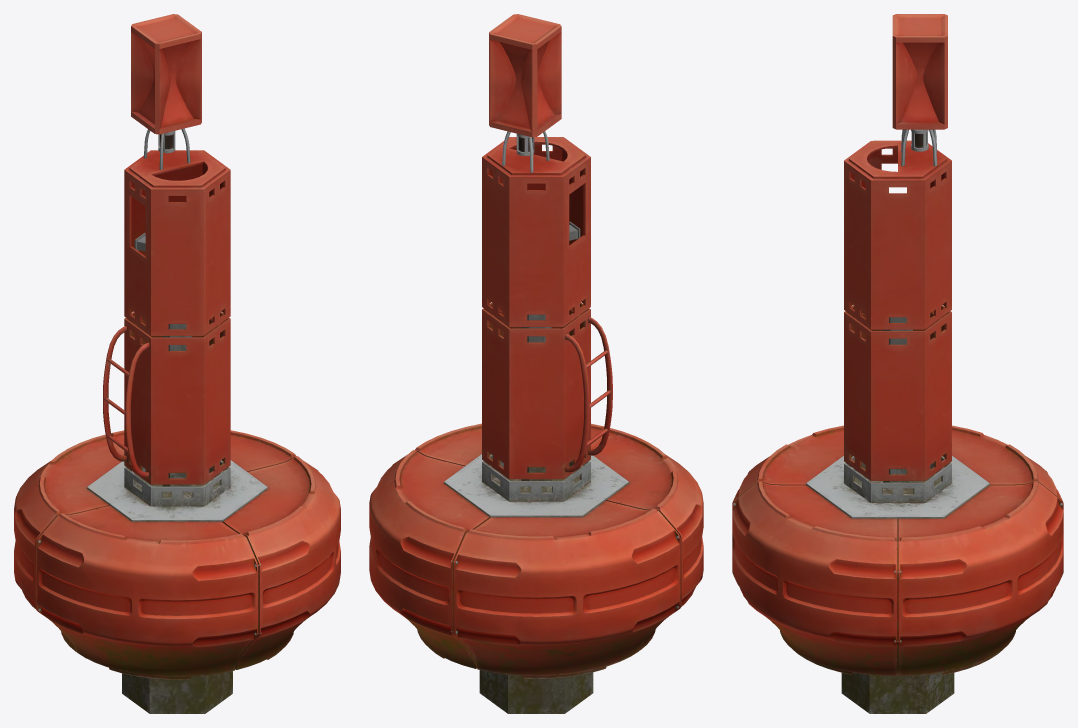
File: lateral_sea_marker.glb
The picture shows the model from 3 angles, left to right: view 1: azimuth 30°, elevation 25°; view 2: azimuth 150°, elevation 25°; view 3: azimuth 270°, elevation 25°; orthographic projection. The views are drawn at different scales.
Visible parts, largest first — view 1: lateral_sea_marker; view 2: lateral_sea_marker; view 3: lateral_sea_marker.
Boxes of the visible parts, <box> form: lateral_sea_marker: <box>14,14,340,713</box>; lateral_sea_marker: <box>369,14,703,713</box>; lateral_sea_marker: <box>732,14,1063,713</box>.
Bounding box in the file's own units: 3 × 6.84 × 3.
Materials: 1 (1 with a texture image).
